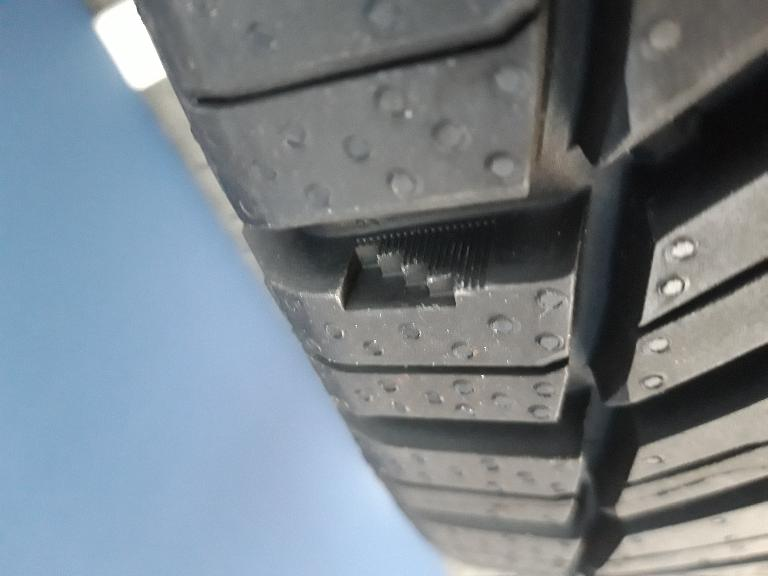temoin:100: (330, 211, 502, 319)
